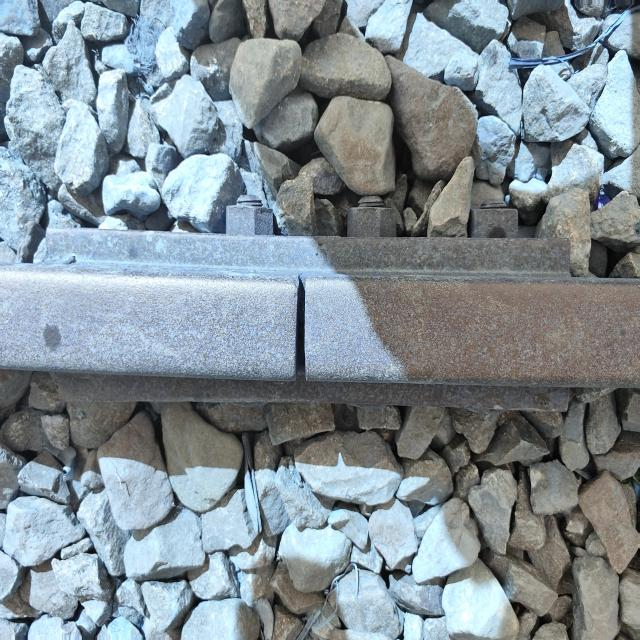crack: (273, 255, 333, 400)
